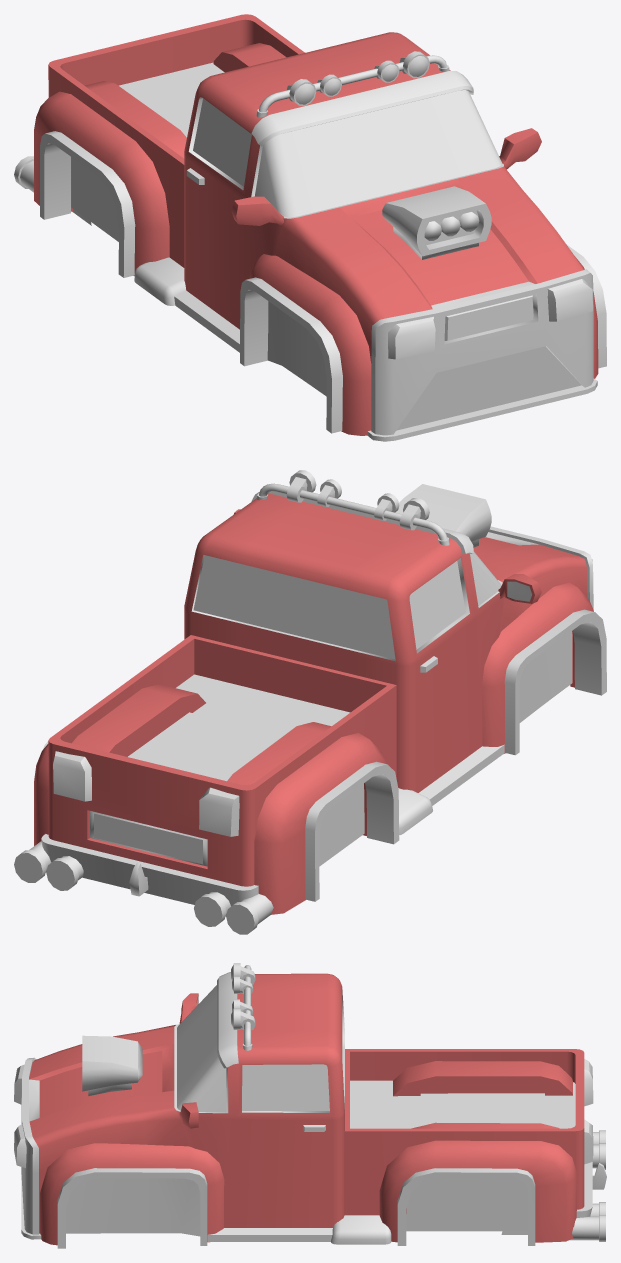
File: Car3 (1).fbx
The picture shows the model from 3 angles, top to bottom: view 1: azimuth 30°, elevation 25°; view 2: azimuth 150°, elevation 25°; view 3: azimuth 270°, elevation 25°; orthographic projection. The views are drawn at different scales.
Parts seen in each view (by area): view 1: Car3; view 2: Car3; view 3: Car3.
Part boxes in pixels (<box>): Car3: <box>14,14,606,441</box>; Car3: <box>14,470,606,934</box>; Car3: <box>14,963,606,1248</box>.
Bounding box in the file's own units: 190 × 154 × 390.
